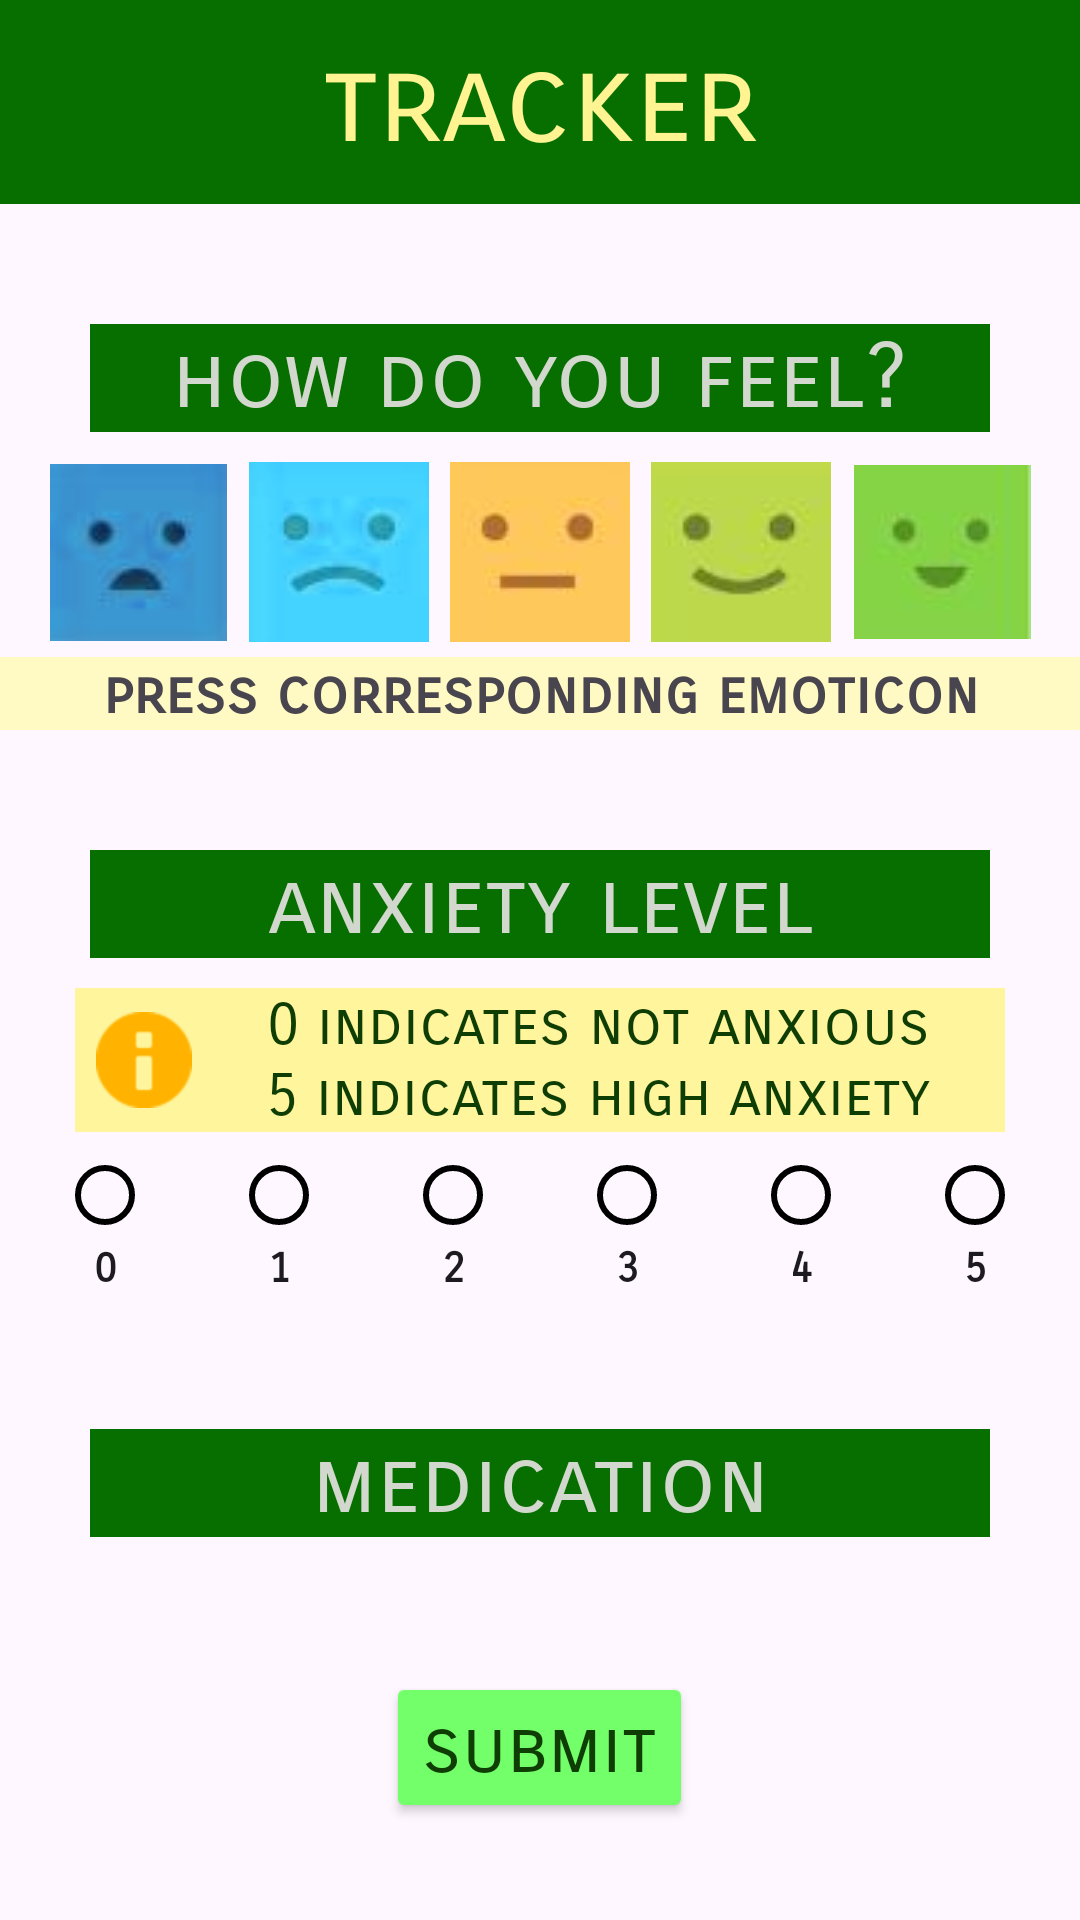

Where to tap for icons on this 1080px×1920px app screen, as point (x, y):
happy: point (741, 552)
neutral: point (540, 552)
sad: point (339, 552)
very happy: point (942, 552)
very sad: point (138, 552)
